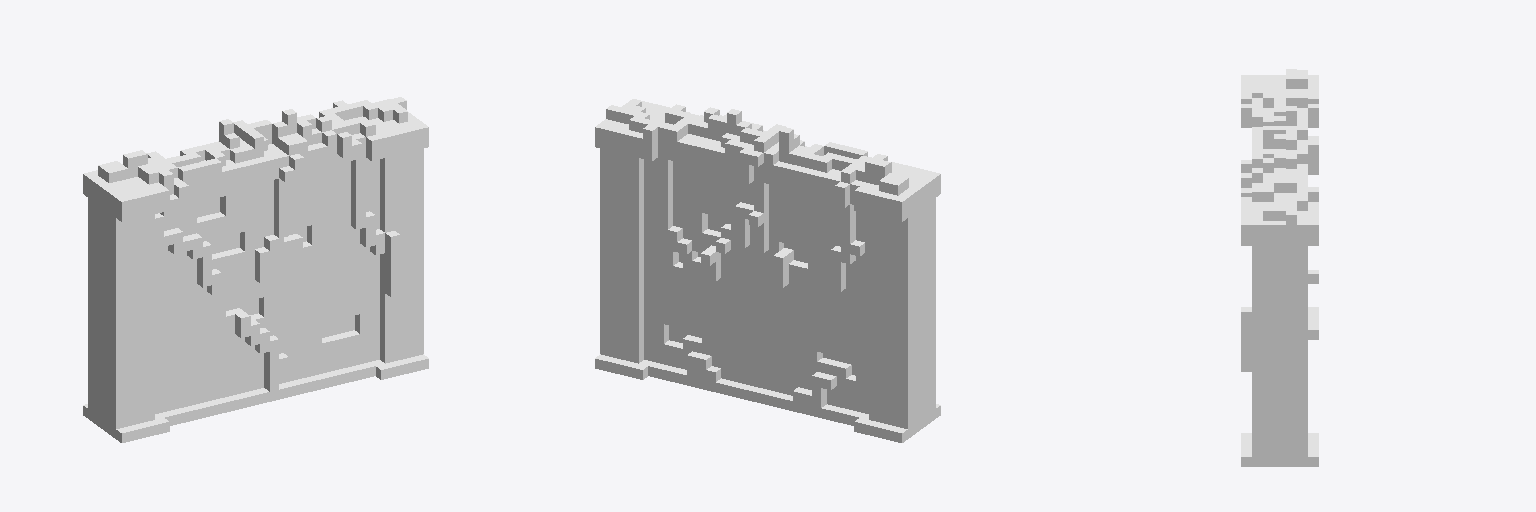
File: wall_brick_2.obj
3 renders of one model, left to right at view 1: azimuth 30°, elevation 25°; view 2: azimuth 150°, elevation 25°; view 3: azimuth 270°, elevation 25°, orthographic.
Visible parts, largest first — view 1: object 1; view 2: object 1; view 3: object 1.
Boxes of the visible parts, x1,y1,x2,y2 form: object 1: [83, 97, 428, 442]; object 1: [595, 99, 940, 442]; object 1: [1241, 69, 1318, 466].
Bounding box in the file's own units: 3.2 × 2.7 × 0.7.